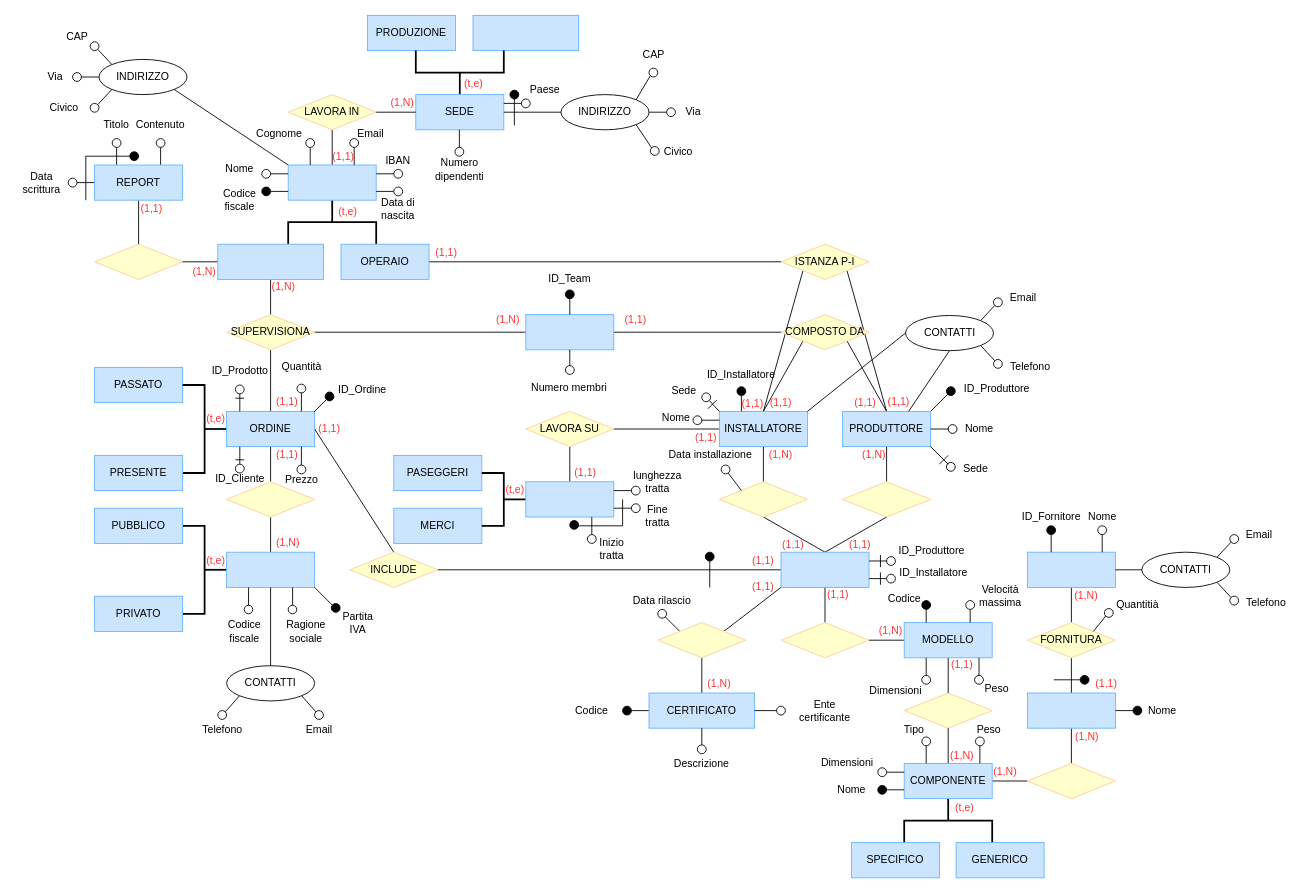
This 1311x893 diagram has some shape labels left out. Each missing label, with the centre of its shape:
"AMMINISTRATORE" goes at pixel 270 261.
"AMMINISTRAZIONE" goes at pixel 525 33.
"CERTIFICA" goes at pixel 701 640.
"CLIENTE" goes at pixel 270 569.
"COMPOSIZIONE" goes at pixel 1071 781.
"DIPENDENTE" goes at pixel 331 182.
"EFFETTUA" goes at pixel 270 499.
"FORNITORE" goes at pixel 1071 569.
"INSTALLA" goes at pixel 763 499.
"ISTANZA P-M" goes at pixel 824 640.
"MATERIALE" goes at pixel 1071 710.
"PARTE DI" goes at pixel 947 710.
"PRODOTTO" goes at pixel 824 569.
"PRODUCE" goes at pixel 886 499.
"SCRIVE" goes at pixel 138 261.
"TEAM" goes at pixel 569 332.
"TRATTA" goes at pixel 569 499.
